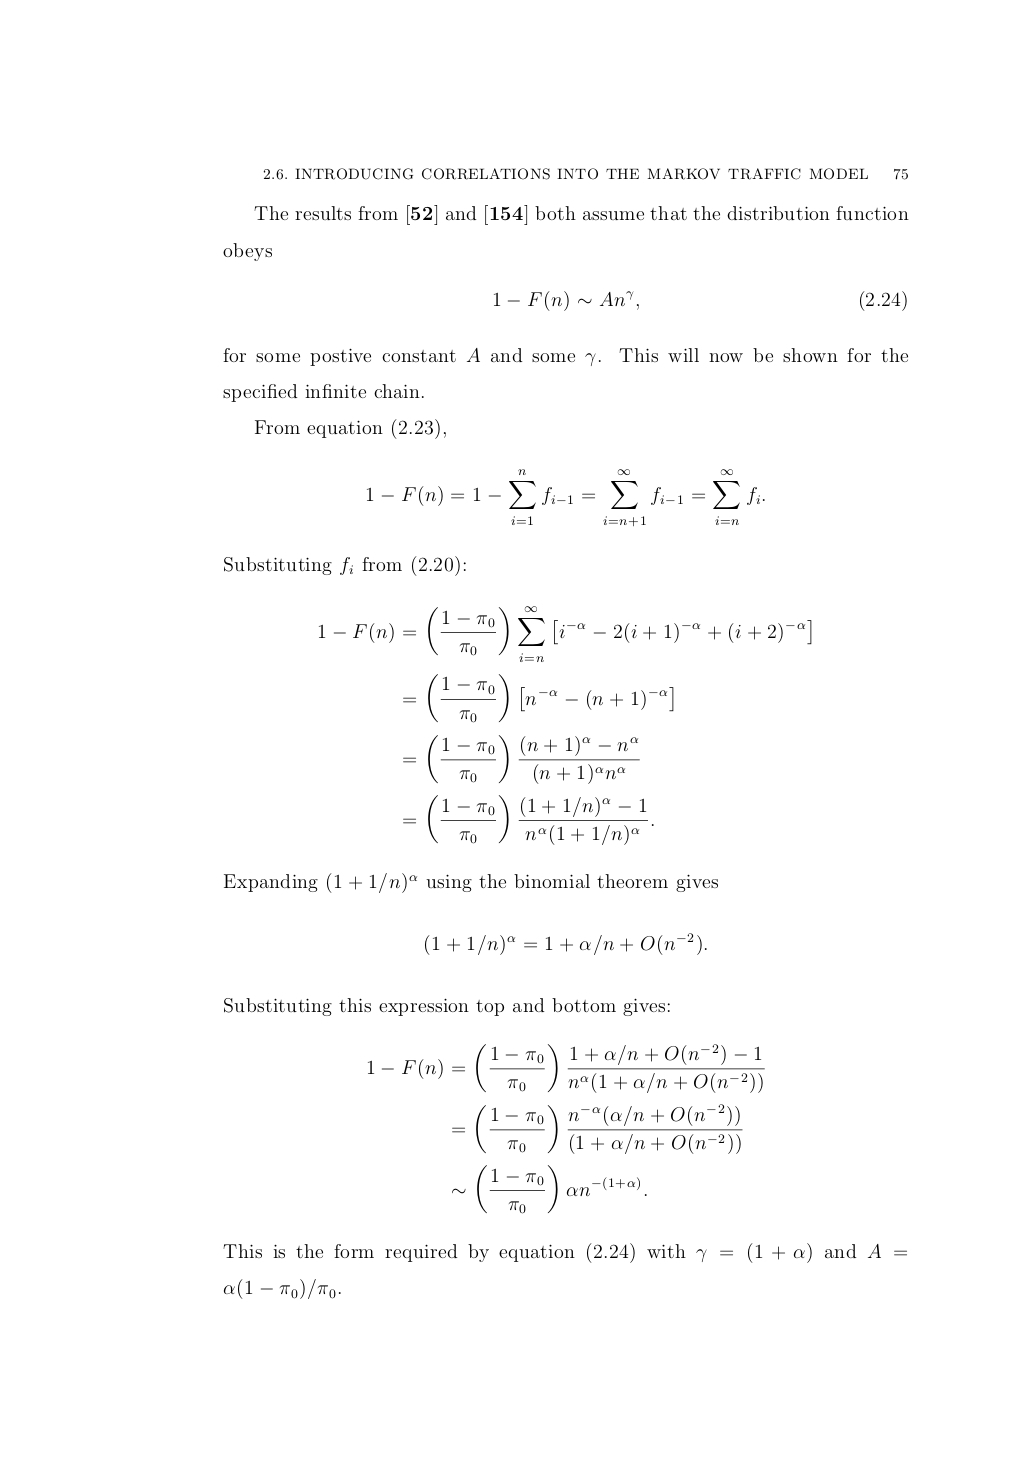formula: (318, 605, 811, 661), (366, 468, 764, 526), (367, 1042, 764, 1093), (452, 1103, 742, 1154), (403, 671, 673, 723), (403, 794, 653, 846), (403, 734, 639, 784), (452, 1165, 646, 1214), (493, 290, 906, 311), (425, 933, 706, 955), (223, 1278, 340, 1299)
